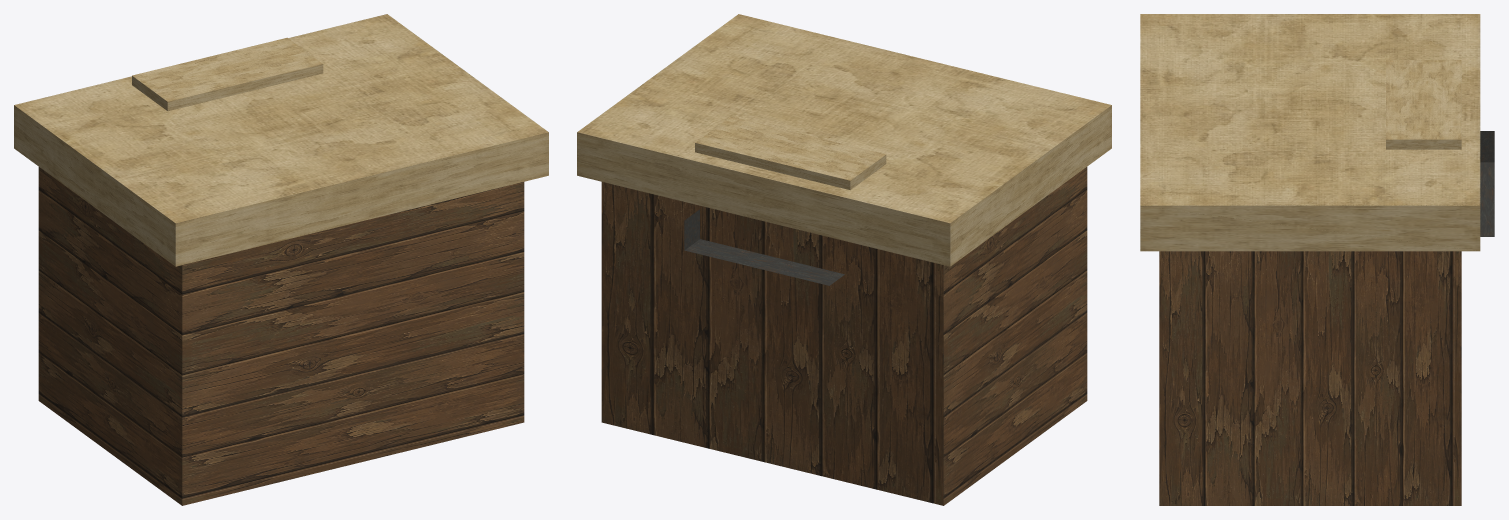
File: PRP_DRY_FUEL_CACHE_001.obj
The picture shows the model from 3 angles, left to right: view 1: azimuth 30°, elevation 25°; view 2: azimuth 150°, elevation 25°; view 3: azimuth 270°, elevation 25°; orthographic projection. The views are drawn at different scales.
Parts seen in each view (by area): view 1: ProtectedCacheBody, WeatherCover, DryStatePanel; view 2: ProtectedCacheBody, WeatherCover, DryStatePanel, LargePullHandle; view 3: ProtectedCacheBody, WeatherCover, DryStatePanel, LargePullHandle.
Boxes of the visible parts, x1,y1,x2,y2 form: ProtectedCacheBody: (38, 167, 524, 505); WeatherCover: (14, 14, 548, 266); DryStatePanel: (132, 37, 323, 111); ProtectedCacheBody: (601, 167, 1087, 505); WeatherCover: (577, 14, 1111, 266); DryStatePanel: (695, 116, 886, 190); LargePullHandle: (684, 209, 844, 285); ProtectedCacheBody: (1159, 251, 1461, 505); WeatherCover: (1140, 14, 1480, 251); DryStatePanel: (1386, 60, 1461, 149); LargePullHandle: (1480, 131, 1494, 236).
Size of the model in its own units: 0.72 by 0.5575 by 0.5625.
Materials: 3 (3 with a texture image).
